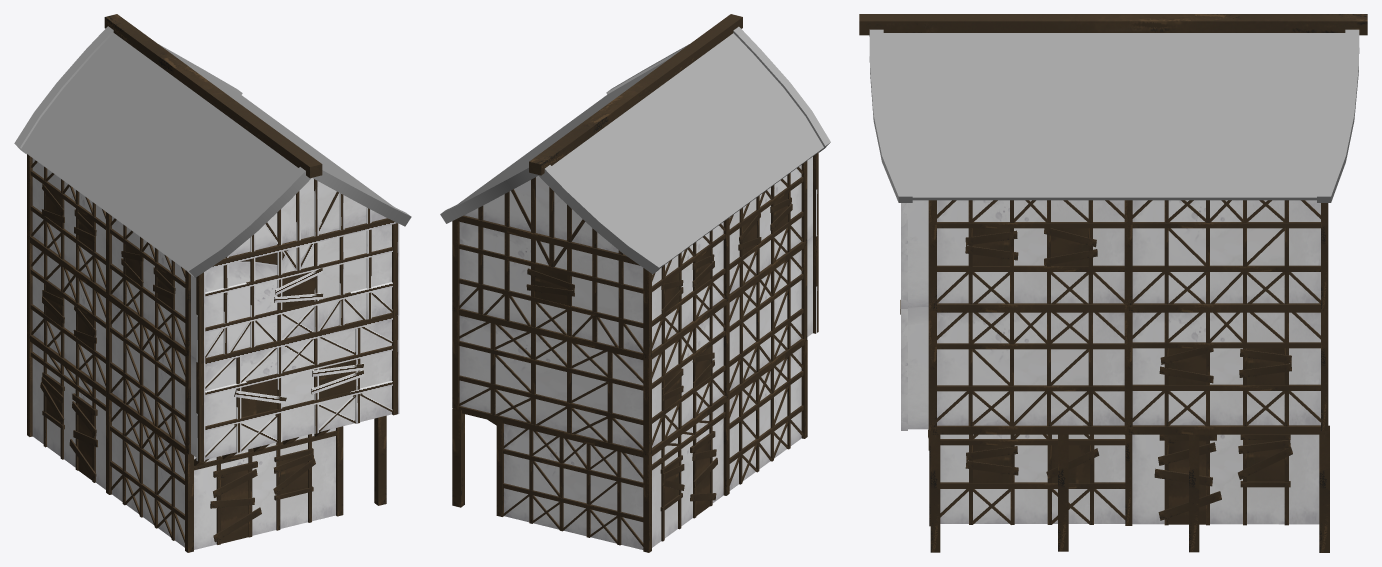
The model's file is SM_House_02.fbx.
3 renders of one model, left to right at view 1: azimuth 30°, elevation 25°; view 2: azimuth 150°, elevation 25°; view 3: azimuth 270°, elevation 25°, orthographic. The views are drawn at different scales.
Parts seen in each view (by area): view 1: SM_House_02; view 2: SM_House_02; view 3: SM_House_02.
Part boxes in pixels (box(x1,y1,x2,y2)): SM_House_02: box(14, 14, 411, 552); SM_House_02: box(440, 14, 830, 552); SM_House_02: box(859, 14, 1367, 552).
Bounding box in the file's own units: 669 × 1102 × 1067.
